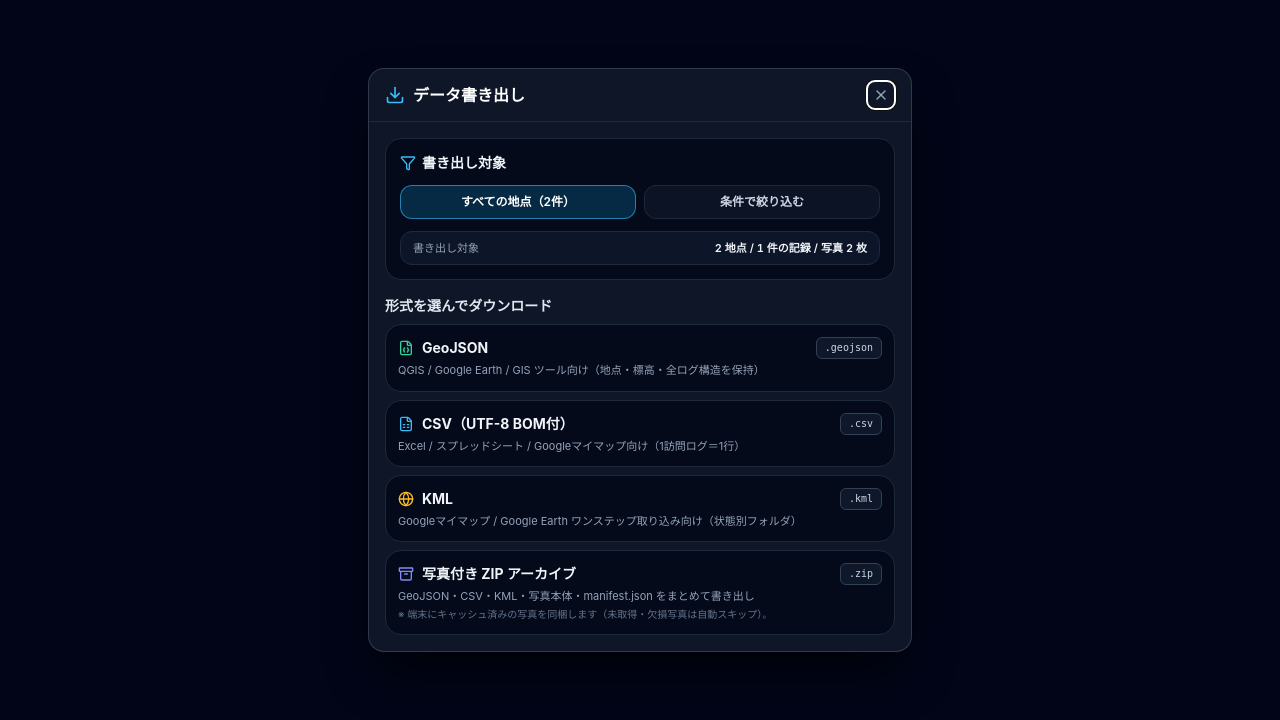
it: ExportDialog and LayerMenu export entrypoint › shows progress, prevents double click during ZIP export, and reports missing photos
The width and height of the screenshot is (1280, 720).
Later steps or results of the test are not shown.
Click the button with id "export-zip-btn" at x=640, y=592, box [385, 550, 895, 635]
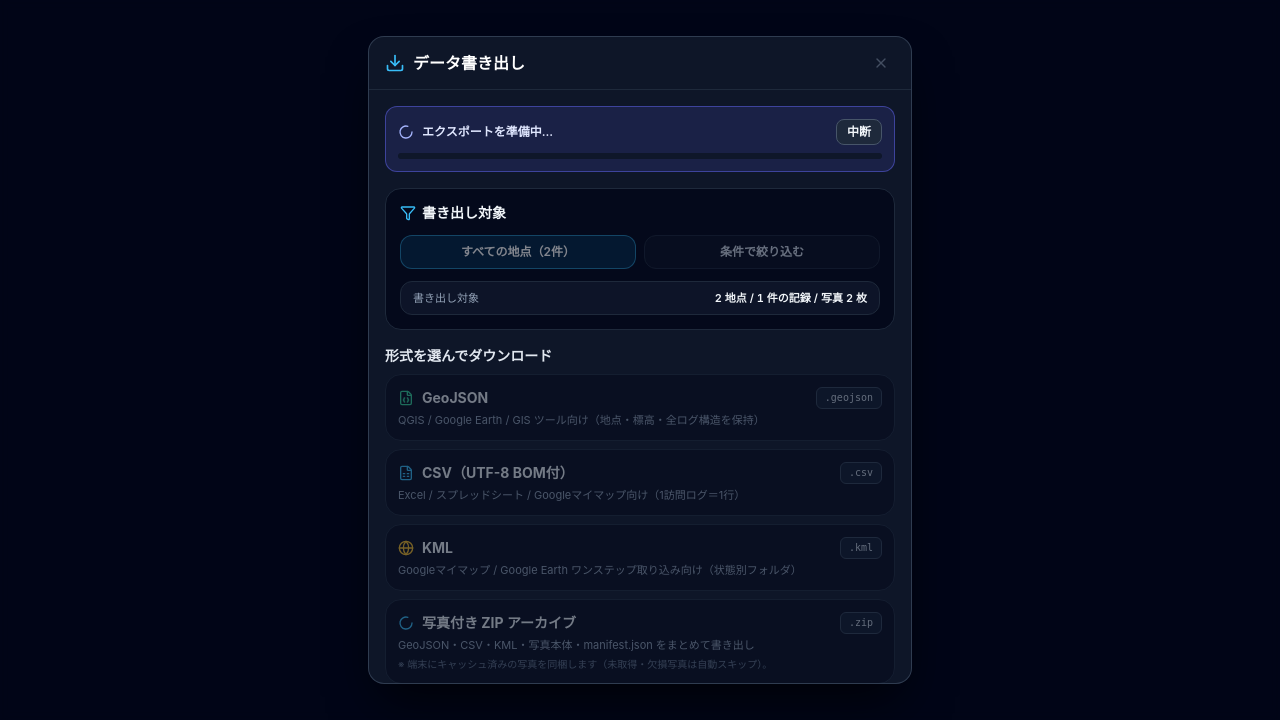
# Double-click while busy should not trigger a second export
Click the button with id "export-zip-btn" at x=640, y=642, box [385, 599, 895, 684]
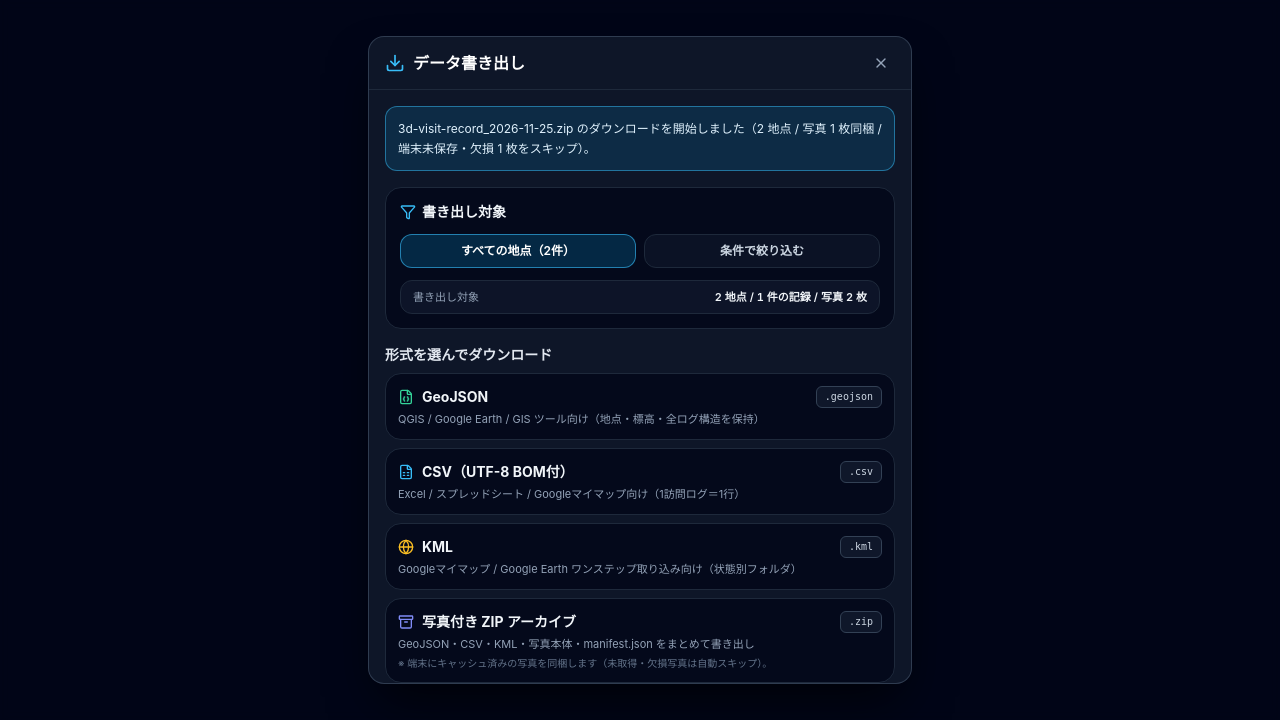
Expected: the text "写真 1 枚同梱 / 端末未保存・欠損 1 枚をスキップ" is shown, [398, 121, 882, 156]
Expected: the button with id "export-zip-btn" is enabled, [385, 598, 895, 683]
